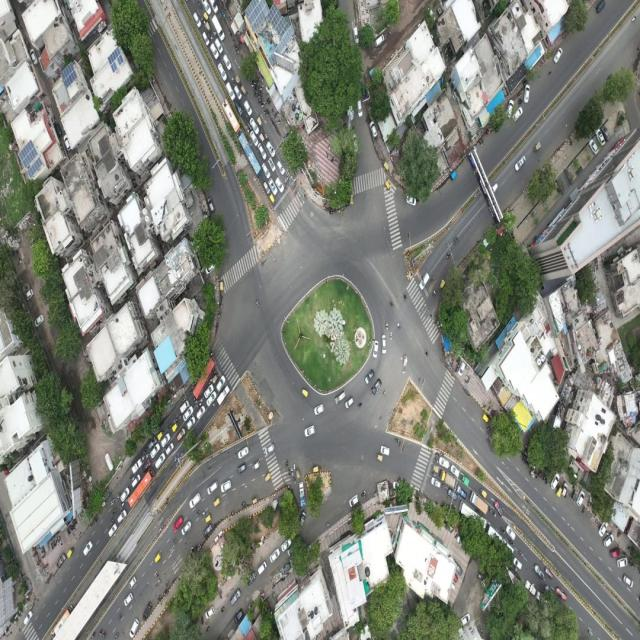3W: (533, 138, 544, 158), (429, 459, 440, 474), (66, 546, 76, 561), (450, 166, 459, 182), (479, 485, 488, 500), (157, 428, 166, 442), (301, 386, 310, 400), (382, 179, 391, 193), (481, 412, 490, 426), (571, 489, 580, 503), (376, 450, 385, 464), (154, 551, 162, 566), (257, 113, 264, 130), (439, 277, 446, 294), (213, 496, 222, 509), (171, 420, 180, 433), (205, 511, 213, 525), (264, 470, 272, 484), (382, 159, 390, 173), (312, 465, 321, 477), (236, 69, 242, 86), (269, 192, 276, 206), (250, 497, 259, 507), (296, 465, 302, 480), (219, 278, 225, 293), (259, 130, 265, 145), (213, 373, 219, 387), (241, 83, 247, 97), (203, 10, 209, 23), (556, 486, 562, 499), (205, 22, 211, 34)
Bus: (125, 468, 154, 512), (192, 352, 217, 403), (484, 521, 515, 560), (237, 133, 262, 178), (454, 500, 487, 534), (47, 602, 79, 637), (221, 97, 241, 139)
Cars: (127, 613, 140, 639), (229, 583, 243, 606), (593, 127, 607, 149), (513, 153, 526, 176), (142, 598, 154, 622), (216, 475, 232, 493), (302, 425, 320, 441), (153, 448, 166, 470), (202, 519, 215, 541), (188, 491, 203, 510), (56, 550, 68, 573), (333, 389, 348, 407), (81, 538, 95, 557), (346, 491, 360, 510), (208, 39, 220, 61), (207, 478, 220, 498), (418, 271, 430, 292), (205, 388, 218, 407), (587, 138, 600, 157), (23, 608, 35, 628), (370, 377, 382, 397), (512, 105, 524, 125), (236, 442, 250, 459), (552, 48, 565, 66), (556, 585, 569, 603), (215, 371, 226, 392), (225, 79, 235, 102), (257, 141, 267, 164), (222, 54, 234, 73), (265, 139, 277, 158), (493, 499, 505, 518), (622, 571, 634, 590), (118, 486, 132, 502), (404, 193, 418, 209), (130, 473, 143, 490), (257, 560, 270, 577), (298, 509, 308, 531), (216, 63, 227, 83), (249, 116, 260, 136), (549, 471, 560, 491), (598, 519, 609, 539), (176, 427, 188, 445), (232, 605, 244, 623), (108, 519, 118, 540), (269, 548, 282, 564), (360, 79, 368, 105), (352, 25, 361, 48), (116, 508, 128, 525), (181, 519, 193, 536), (203, 382, 215, 399), (343, 395, 355, 412), (374, 33, 386, 50), (595, 0, 607, 17), (380, 330, 388, 355), (269, 177, 279, 197), (506, 97, 514, 122), (213, 36, 224, 54), (370, 118, 379, 140), (534, 563, 545, 581), (126, 576, 140, 590), (234, 462, 247, 477), (280, 537, 293, 552), (312, 404, 327, 417), (165, 442, 177, 458), (160, 431, 172, 447), (185, 416, 197, 432), (245, 571, 257, 587), (173, 515, 183, 534), (197, 402, 207, 421), (365, 366, 375, 385), (233, 99, 243, 118), (601, 123, 611, 142), (544, 563, 554, 582), (183, 404, 194, 421), (201, 0, 212, 17), (372, 337, 379, 363), (609, 545, 622, 559), (192, 10, 201, 30), (200, 30, 210, 48), (234, 84, 244, 102), (277, 157, 286, 177), (505, 525, 517, 540), (355, 97, 363, 119), (523, 83, 531, 105), (456, 484, 467, 500), (208, 196, 217, 215), (244, 97, 253, 116), (262, 178, 271, 197), (275, 175, 284, 194), (205, 604, 215, 621), (438, 457, 451, 470), (616, 557, 629, 570), (264, 443, 276, 457), (447, 488, 459, 502), (141, 459, 152, 474), (208, 0, 219, 15), (576, 490, 585, 508), (124, 593, 134, 609), (491, 181, 501, 197), (430, 477, 442, 490), (603, 535, 615, 548), (147, 435, 158, 449), (562, 480, 569, 502), (451, 463, 460, 480), (150, 443, 160, 458), (380, 443, 390, 458), (262, 164, 271, 180), (251, 130, 259, 147), (268, 157, 277, 172), (513, 556, 522, 571), (459, 359, 466, 378), (252, 460, 261, 473)
LCV: (211, 14, 226, 42), (296, 479, 309, 511), (217, 385, 232, 410), (522, 578, 537, 599), (130, 458, 143, 474), (179, 397, 190, 414), (460, 474, 470, 490)
M2W: (360, 486, 367, 501), (384, 321, 391, 334), (446, 249, 453, 262), (356, 398, 363, 411), (630, 13, 639, 23), (402, 291, 409, 303), (452, 235, 459, 247), (394, 434, 401, 446), (586, 628, 594, 638), (432, 287, 438, 300), (423, 347, 429, 359), (164, 577, 170, 589), (508, 538, 515, 548), (156, 592, 163, 602), (114, 626, 119, 640), (389, 330, 394, 343), (388, 300, 395, 309), (90, 631, 97, 640), (255, 298, 261, 308), (244, 125, 250, 135), (396, 321, 402, 331), (387, 29, 392, 41), (382, 386, 387, 398), (518, 548, 524, 558), (500, 525, 506, 535), (220, 604, 226, 614), (118, 612, 124, 622), (101, 630, 107, 640), (488, 504, 493, 515), (189, 544, 194, 555), (93, 518, 99, 527), (119, 502, 125, 511), (211, 369, 217, 378), (201, 16, 207, 25), (208, 32, 214, 41), (230, 76, 236, 85), (247, 122, 253, 131), (195, 509, 201, 518), (172, 537, 178, 546), (208, 378, 213, 388), (197, 1, 202, 11), (277, 116, 282, 126), (518, 98, 523, 108), (430, 275, 435, 285), (33, 550, 39, 558), (41, 551, 47, 559), (111, 509, 117, 517), (303, 192, 309, 200), (493, 509, 497, 521), (206, 622, 210, 634), (241, 500, 247, 508), (36, 559, 41, 568), (66, 528, 71, 537), (111, 517, 116, 526), (110, 498, 115, 507), (183, 394, 188, 403), (213, 30, 218, 39), (581, 506, 586, 515), (201, 509, 206, 518), (437, 319, 441, 330), (44, 563, 50, 570), (172, 418, 178, 425), (187, 391, 193, 398), (208, 352, 214, 359), (431, 471, 437, 478), (433, 457, 439, 464), (435, 452, 441, 459), (230, 509, 236, 516), (218, 311, 222, 321), (265, 96, 270, 104), (272, 111, 277, 119), (478, 141, 483, 149), (480, 135, 484, 145), (291, 467, 295, 477), (50, 542, 54, 551), (69, 525, 73, 534), (117, 492, 121, 501), (132, 473, 136, 482), (143, 446, 147, 455), (142, 453, 146, 462), (179, 413, 183, 422), (257, 98, 263, 104), (260, 128, 264, 137), (265, 132, 269, 141), (283, 183, 287, 192), (519, 89, 522, 101), (441, 483, 447, 489), (293, 477, 297, 486), (73, 519, 78, 526), (126, 496, 131, 503), (145, 453, 150, 460), (197, 402, 202, 409), (263, 108, 268, 115), (626, 546, 631, 553), (440, 451, 445, 458), (98, 629, 103, 636), (286, 458, 289, 469), (72, 523, 76, 531), (129, 474, 133, 482), (228, 30, 232, 38), (262, 101, 266, 109), (155, 570, 159, 578), (53, 538, 56, 548), (200, 396, 205, 402), (245, 115, 250, 121), (259, 84, 264, 90), (259, 99, 264, 105), (622, 552, 627, 558), (288, 468, 291, 478), (168, 424, 172, 431), (192, 383, 196, 390), (293, 177, 297, 184), (631, 562, 635, 569), (266, 110, 269, 119), (285, 177, 288, 186), (286, 175, 289, 184), (289, 178, 292, 187), (629, 558, 632, 567), (293, 463, 296, 472), (194, 399, 200, 403), (253, 92, 257, 98), (267, 100, 271, 106), (522, 455, 525, 463), (56, 538, 59, 545), (58, 537, 61, 544), (193, 396, 196, 403), (257, 89, 260, 96), (271, 108, 274, 115), (429, 312, 432, 319), (539, 472, 542, 479), (543, 474, 546, 481), (252, 82, 256, 87), (253, 85, 257, 90), (434, 315, 438, 320), (255, 87, 258, 93), (544, 476, 547, 482), (525, 457, 527, 465), (157, 578, 161, 582), (257, 92, 262, 95), (545, 479, 548, 484), (527, 459, 529, 466), (533, 465, 535, 472), (237, 49, 239, 55)
Truck: (469, 489, 489, 516), (440, 469, 459, 490)
